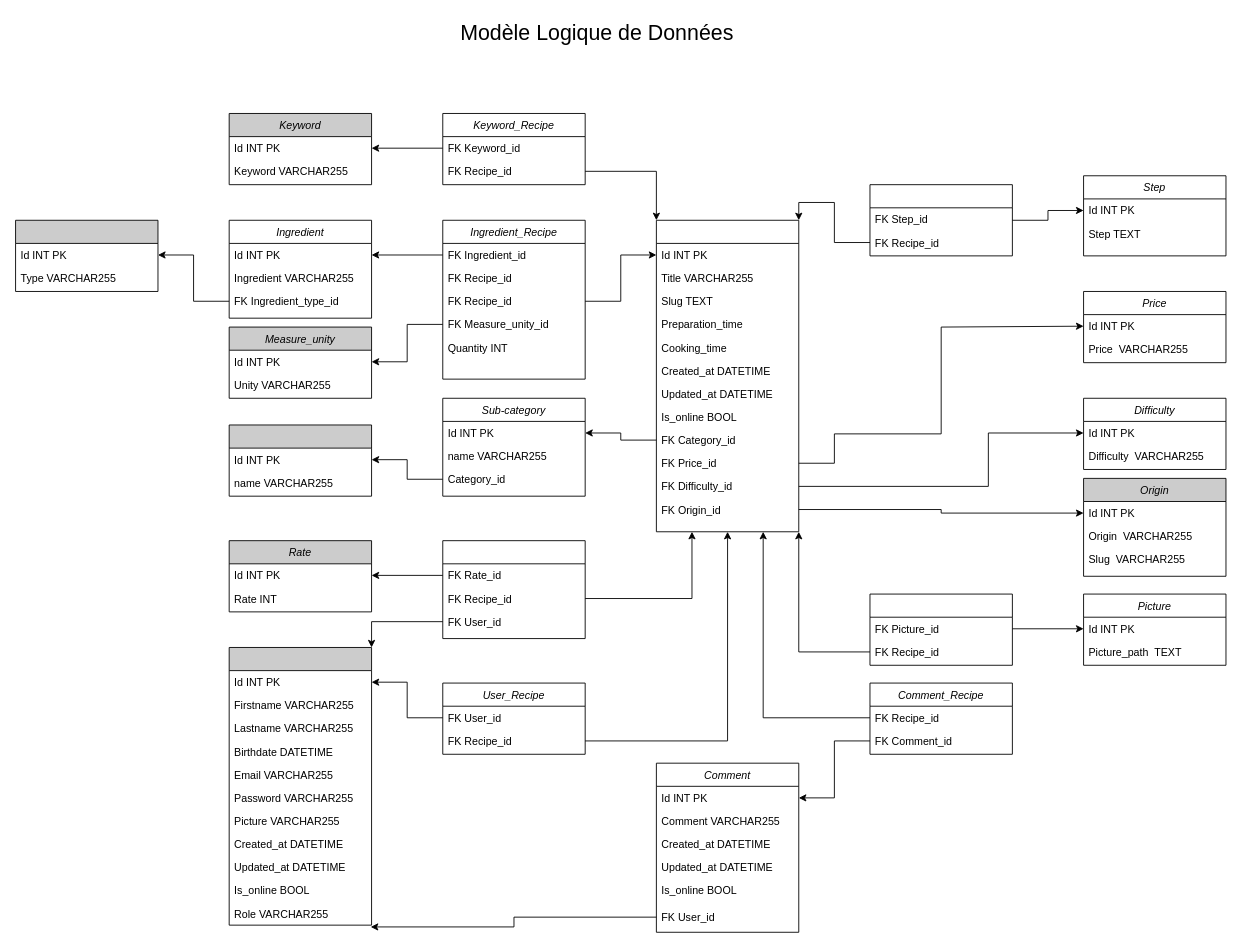
Some shapes in this 1242 by 950 pixel diagram are drawn without their labels. The box of each missing label's shape, as (x1, y1, x2, y2) in pixels:
Category: (228, 424, 372, 496)
Ingredient_type: (15, 219, 158, 291)
Picture_Recipe: (869, 593, 1012, 665)
Rate_Recipe: (442, 540, 585, 639)
Recipe: (655, 219, 799, 532)
Step_Recipe: (869, 184, 1012, 256)
User: (228, 647, 372, 925)
